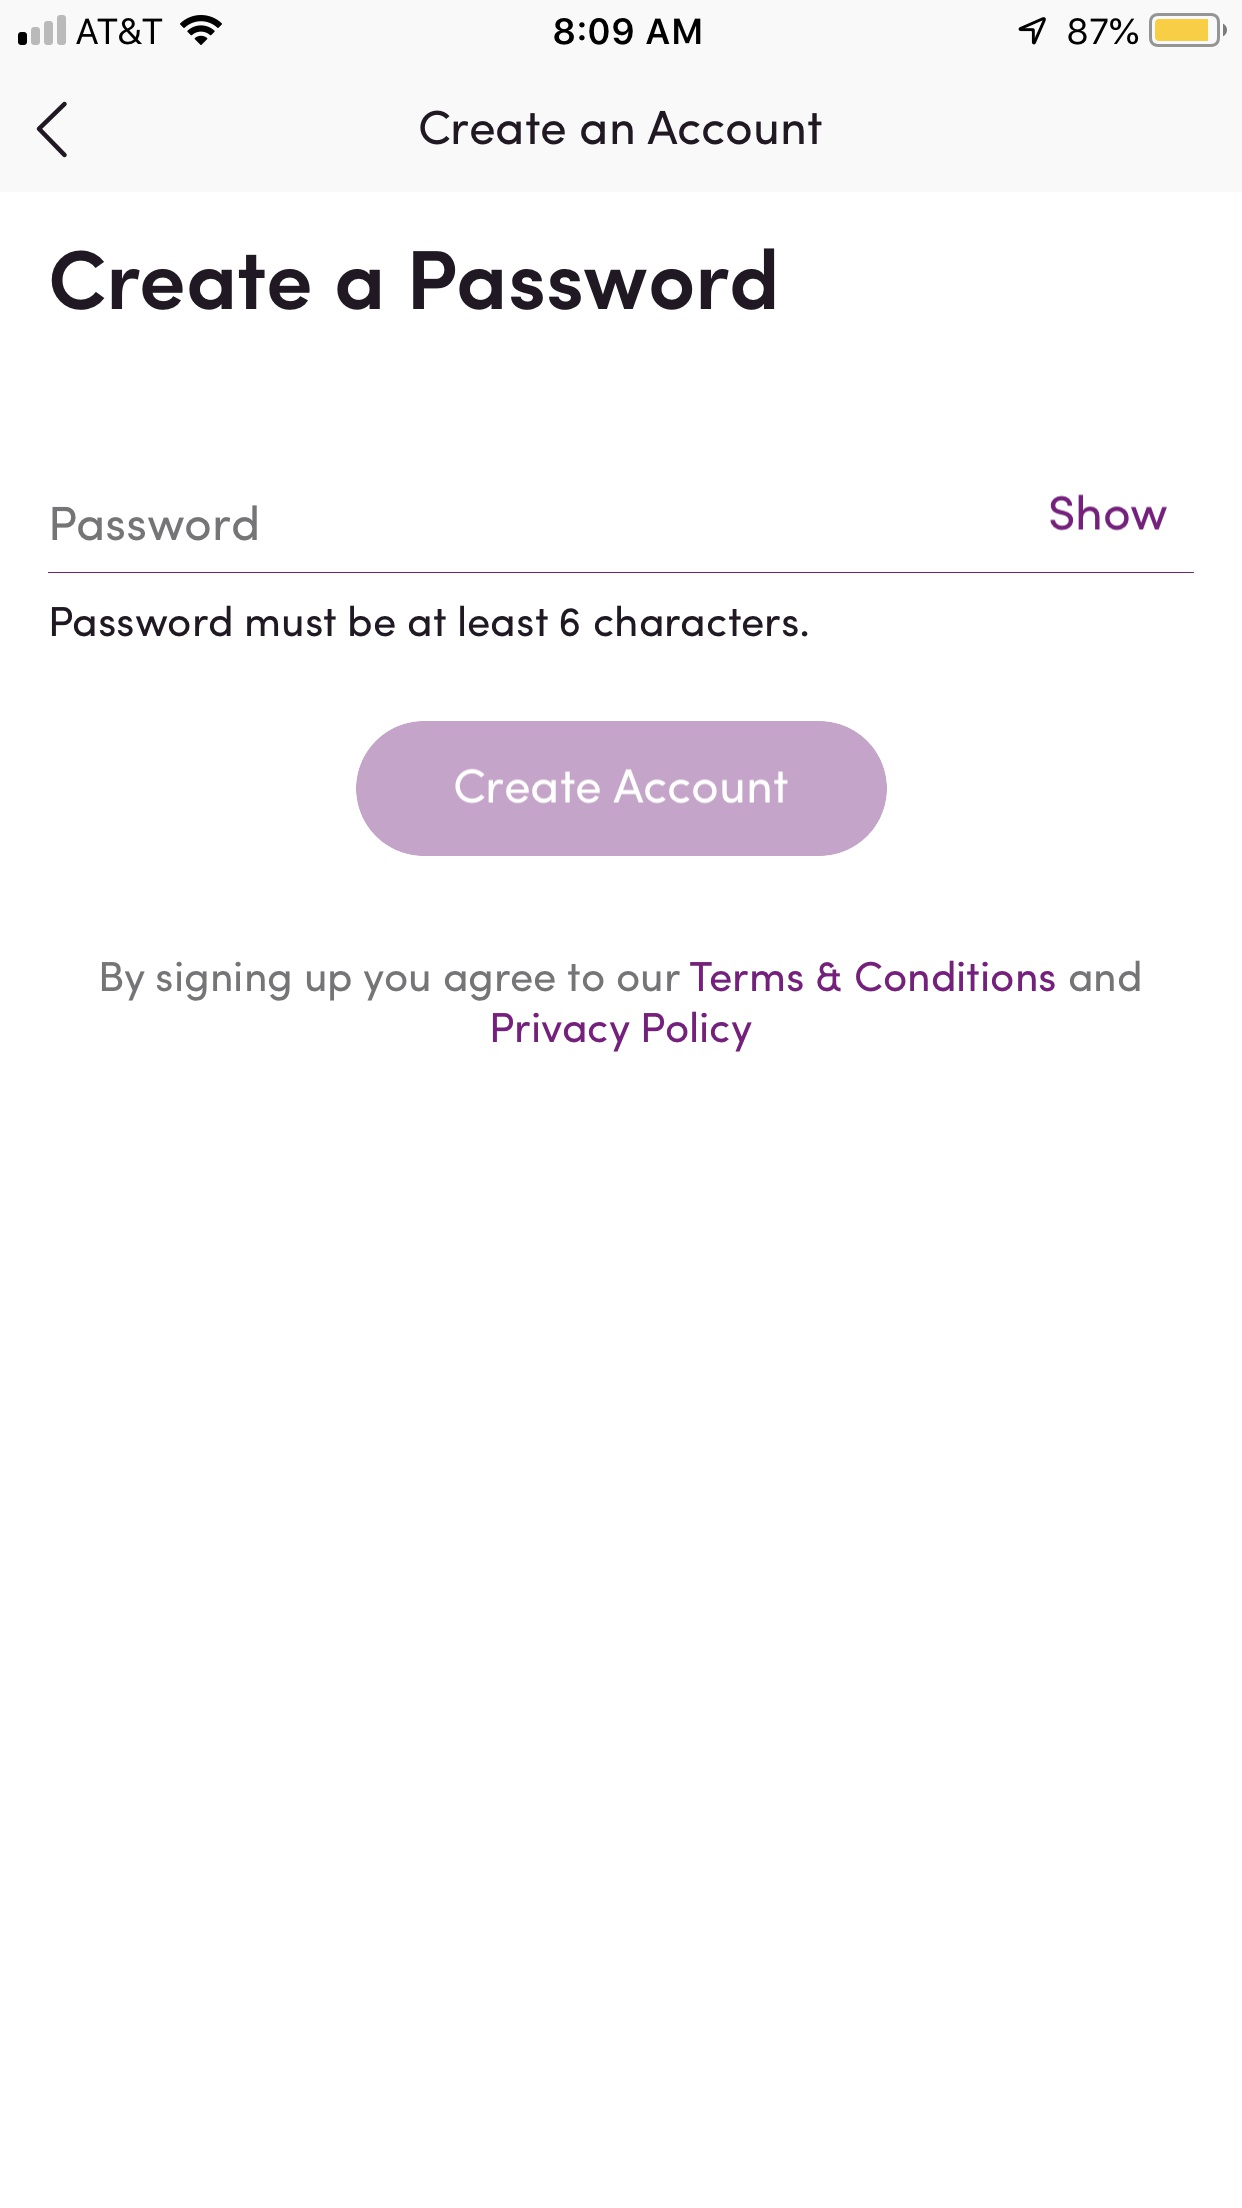EditText: (49, 494, 1195, 575)
Icon: (36, 102, 70, 159)
Text: (102, 960, 1140, 1054), (52, 249, 776, 312), (52, 605, 808, 638), (420, 111, 823, 147), (52, 507, 259, 543), (1049, 494, 1168, 532)
TextButton: (356, 720, 889, 857)
UpperTaskBar: (2, 2, 1242, 49)
